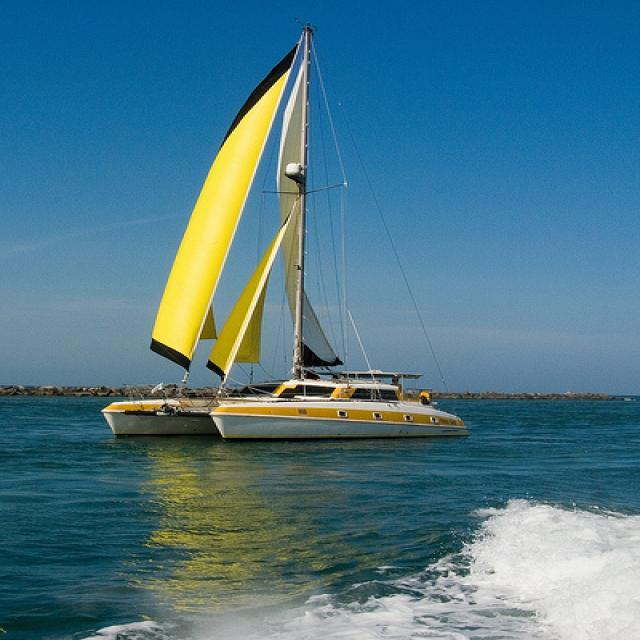Ship: (112, 27, 480, 443)
